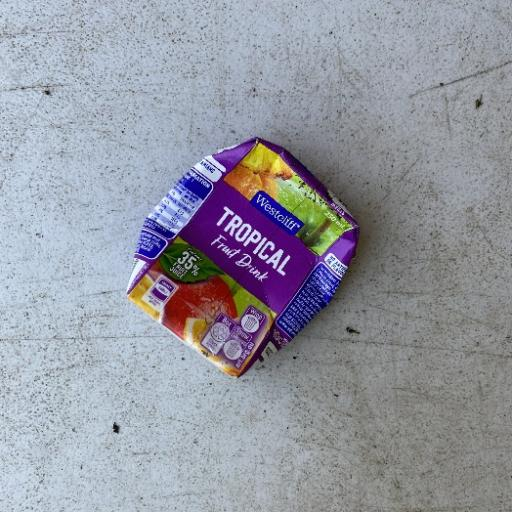Cardboard: (124, 135, 362, 379)
